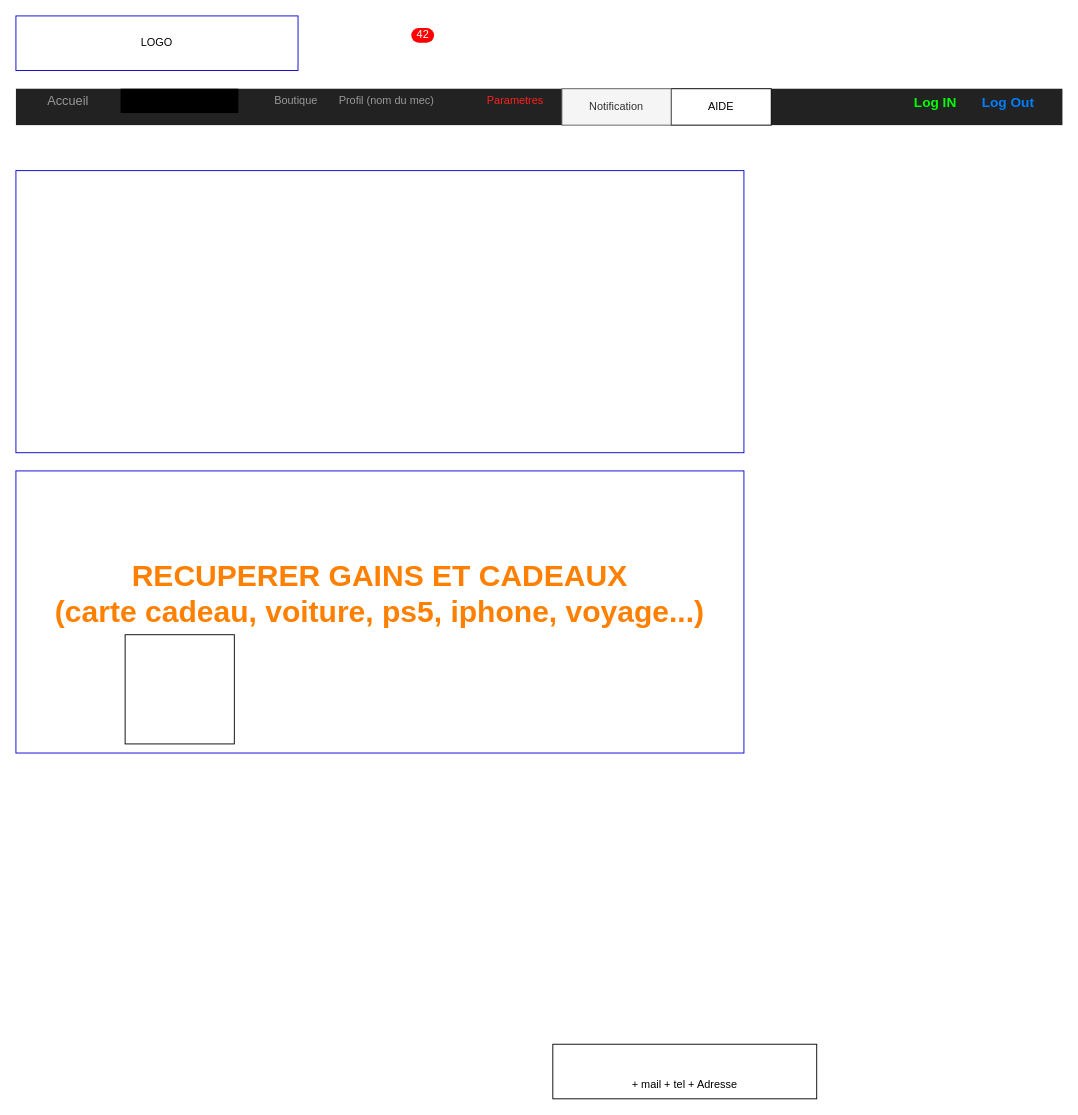
Some shapes in this 1078 by 1115 pixel diagram are drawn without their labels. The shapes that lost their labels are listed below. From the top down, each one's centre as x and y in pixels, then its label:
At point (179, 100): "Roulette | Carte".
At point (379, 311): "ACHAT JCOINS".
At point (179, 689): "IMAGE NOM quantité : - 1 + ACHETER".
